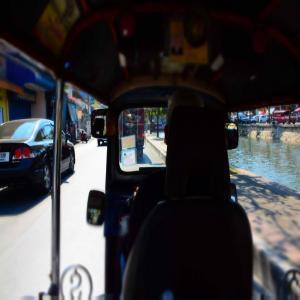Vehicle-registration-plate: (1, 153, 11, 163)
